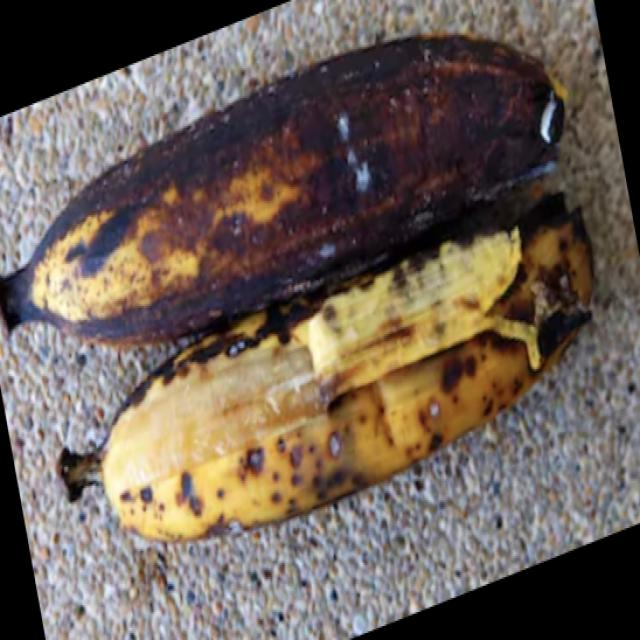Rotten: (54, 185, 636, 570), (0, 28, 571, 355)
